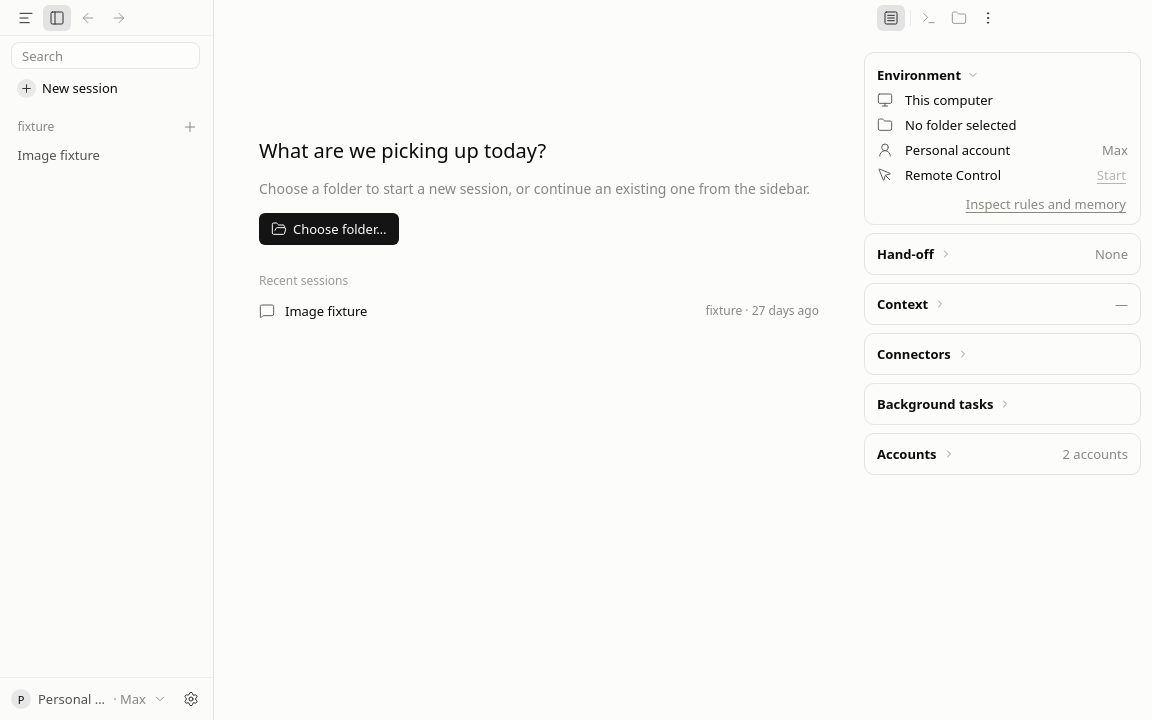
it: transcript images › says so when an image is no longer held by main
Click the button "Image fixture" at {"x": 106, "y": 155}, box [7, 141, 206, 169]
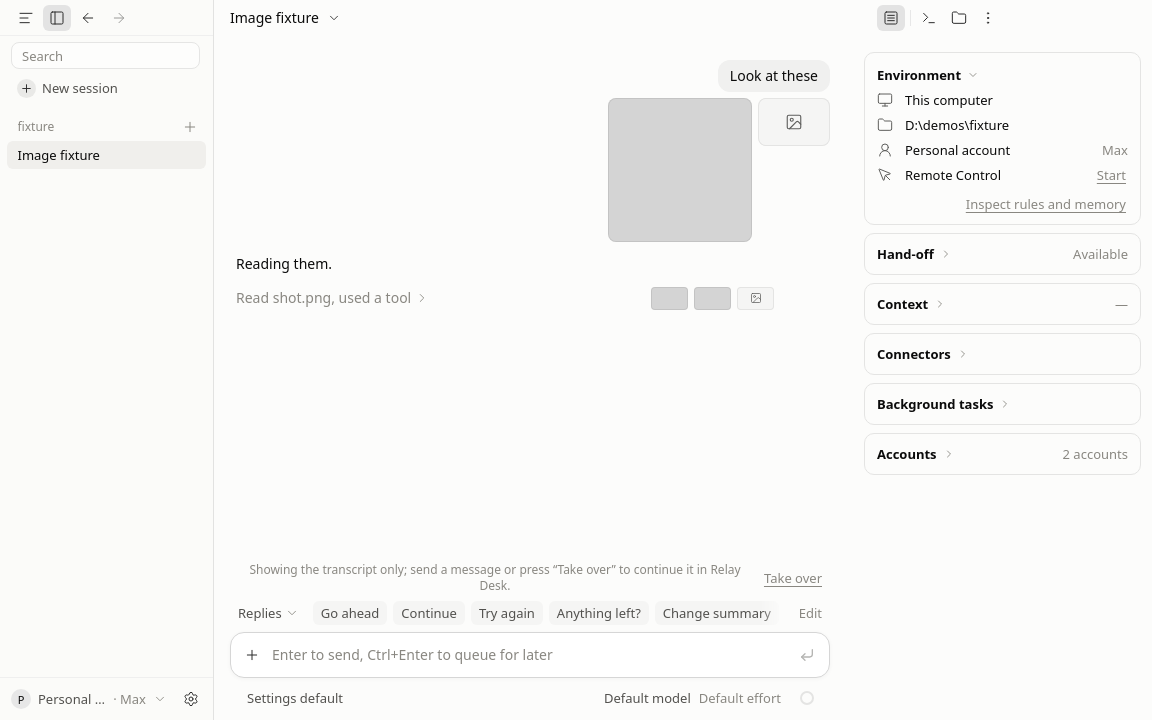
Now the element with test id "assistant-message" is shown, box [236, 254, 332, 273]
Click the button with test id "image-thumb" below "Look at these" at {"x": 794, "y": 122}, box [758, 98, 830, 146]
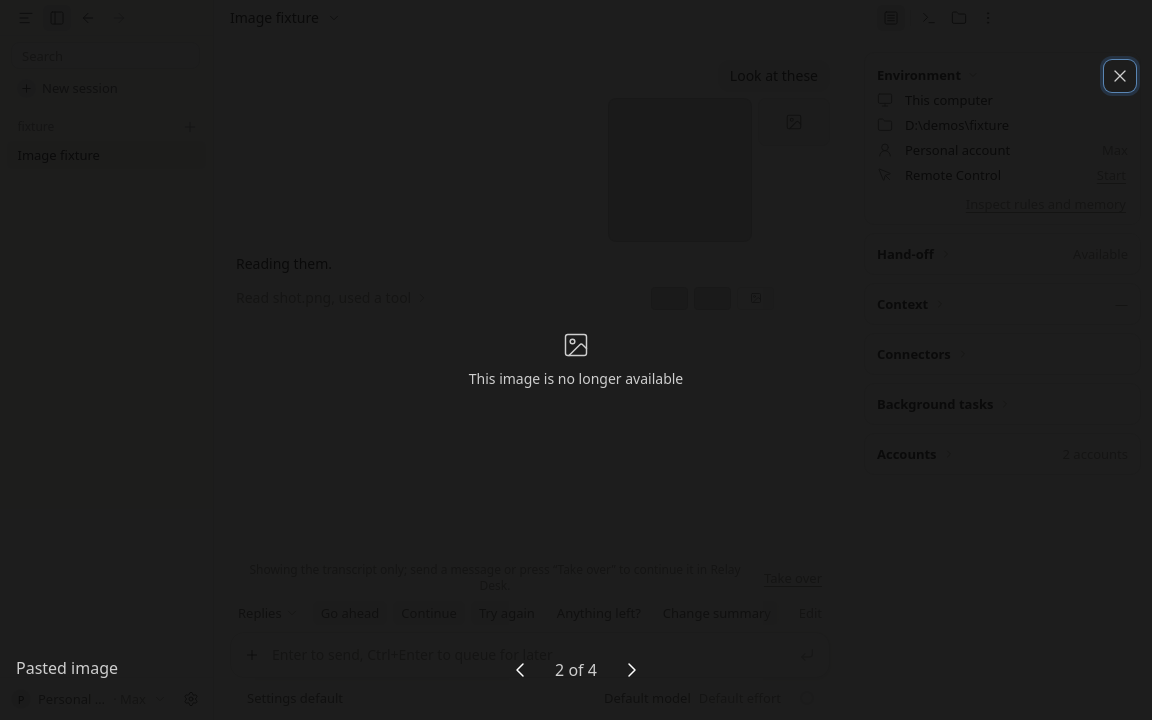
Now the message reads "This image is no longer available", box [469, 369, 683, 388]
Now the text "2 of 4" is shown, box [555, 659, 597, 681]
